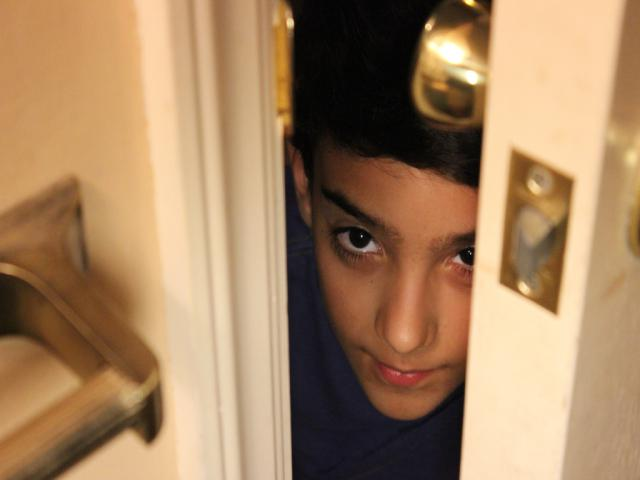Door-handle: (410, 0, 490, 133)
